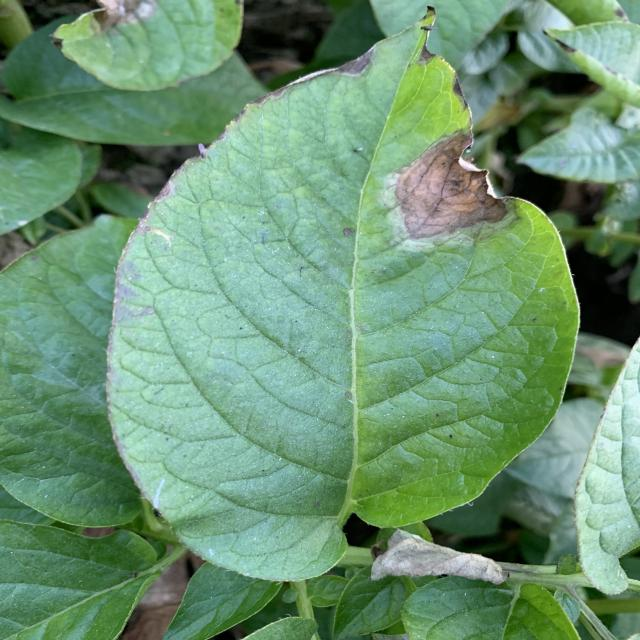lateblight: (395, 134, 507, 239), (332, 50, 372, 75), (272, 72, 295, 85), (298, 75, 313, 79)
